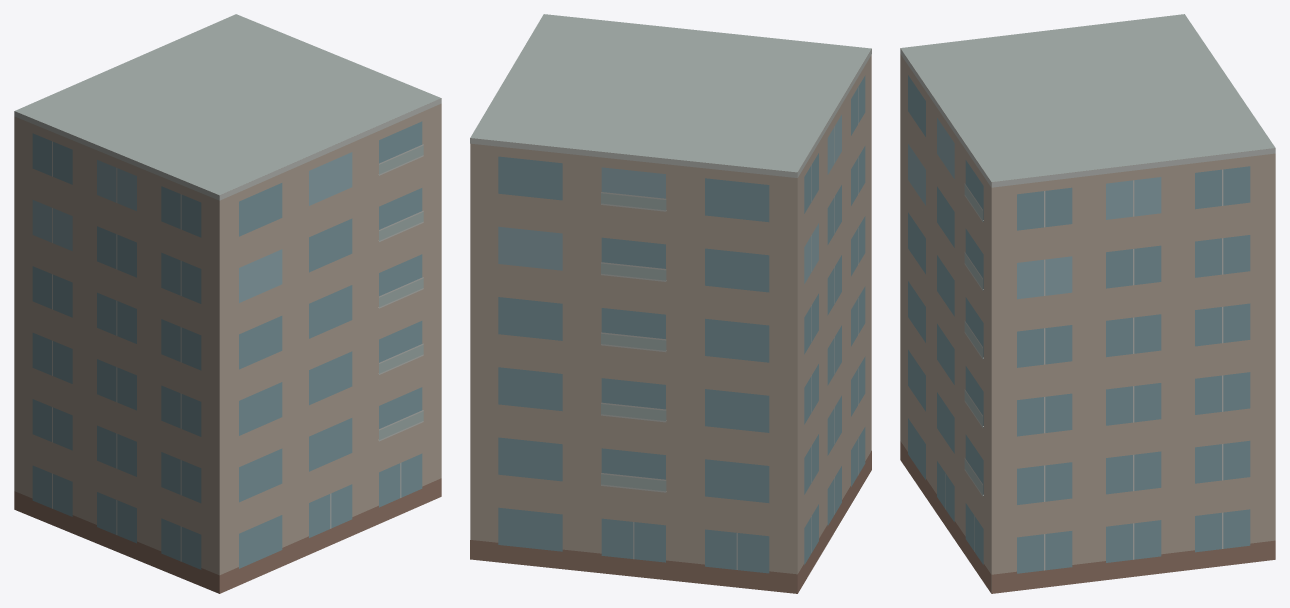
The model's file is survey-upis-33035421.glb.
3 views of the same model, side by side, from view 1: azimuth 30°, elevation 25°; view 2: azimuth 150°, elevation 25°; view 3: azimuth 270°, elevation 25° (orthographic). The views are drawn at different scales.
Parts seen in each view (by area): view 1: survey-upis-33035421.tmp; view 2: survey-upis-33035421.tmp; view 3: survey-upis-33035421.tmp.
Boxes of the visible parts, x1,y1,x2,y2 form: survey-upis-33035421.tmp: (14,14,441,593); survey-upis-33035421.tmp: (470,14,871,593); survey-upis-33035421.tmp: (900,14,1275,593).
Bounding box in the file's own units: 15.86 × 18.1 × 14.97.
